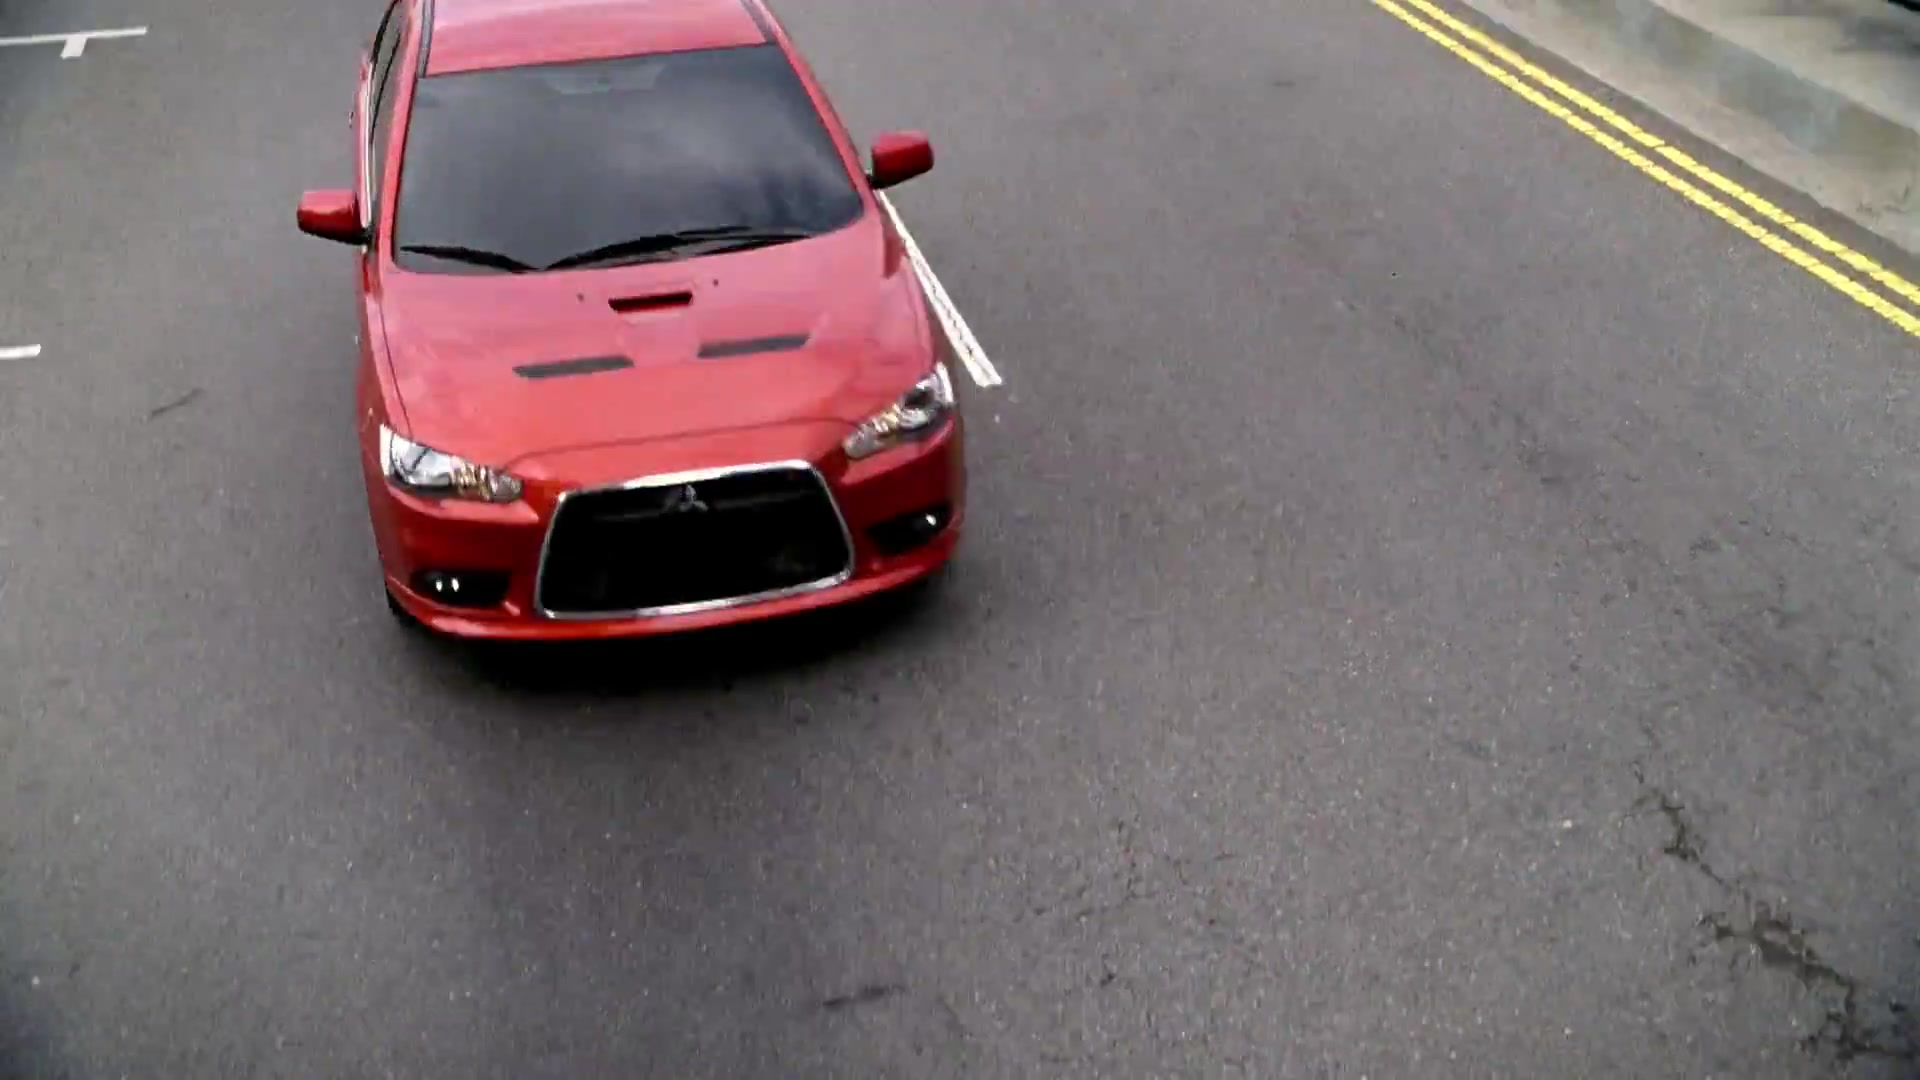car: (294, 5, 973, 679)
